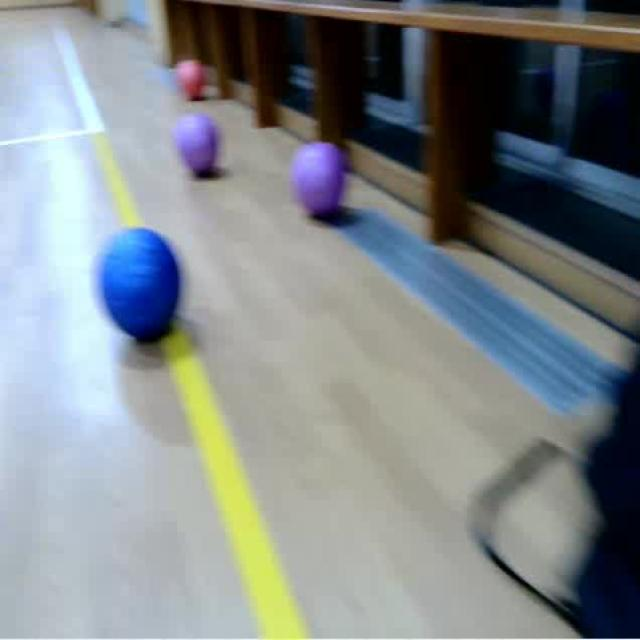blue_ball: (99, 228, 180, 338)
purple_ball: (297, 141, 346, 211), (177, 115, 219, 177)
red_ball: (178, 59, 206, 95)
